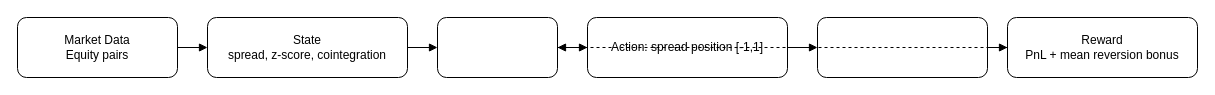
This 1215x95 diagram has some shape labels left out. Each missing label, with the box of its shape:
PPO Policy: (436, 16, 558, 78)
Stat Arb Env hedge ratio, costs: (816, 16, 988, 78)
